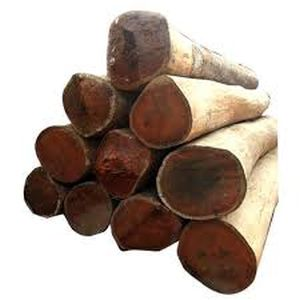log: (154, 142, 251, 222), (175, 219, 261, 298), (105, 8, 175, 88), (127, 72, 198, 149), (112, 193, 185, 259), (90, 128, 153, 200), (59, 72, 119, 138), (32, 123, 90, 188), (60, 179, 114, 241), (18, 165, 64, 222)
